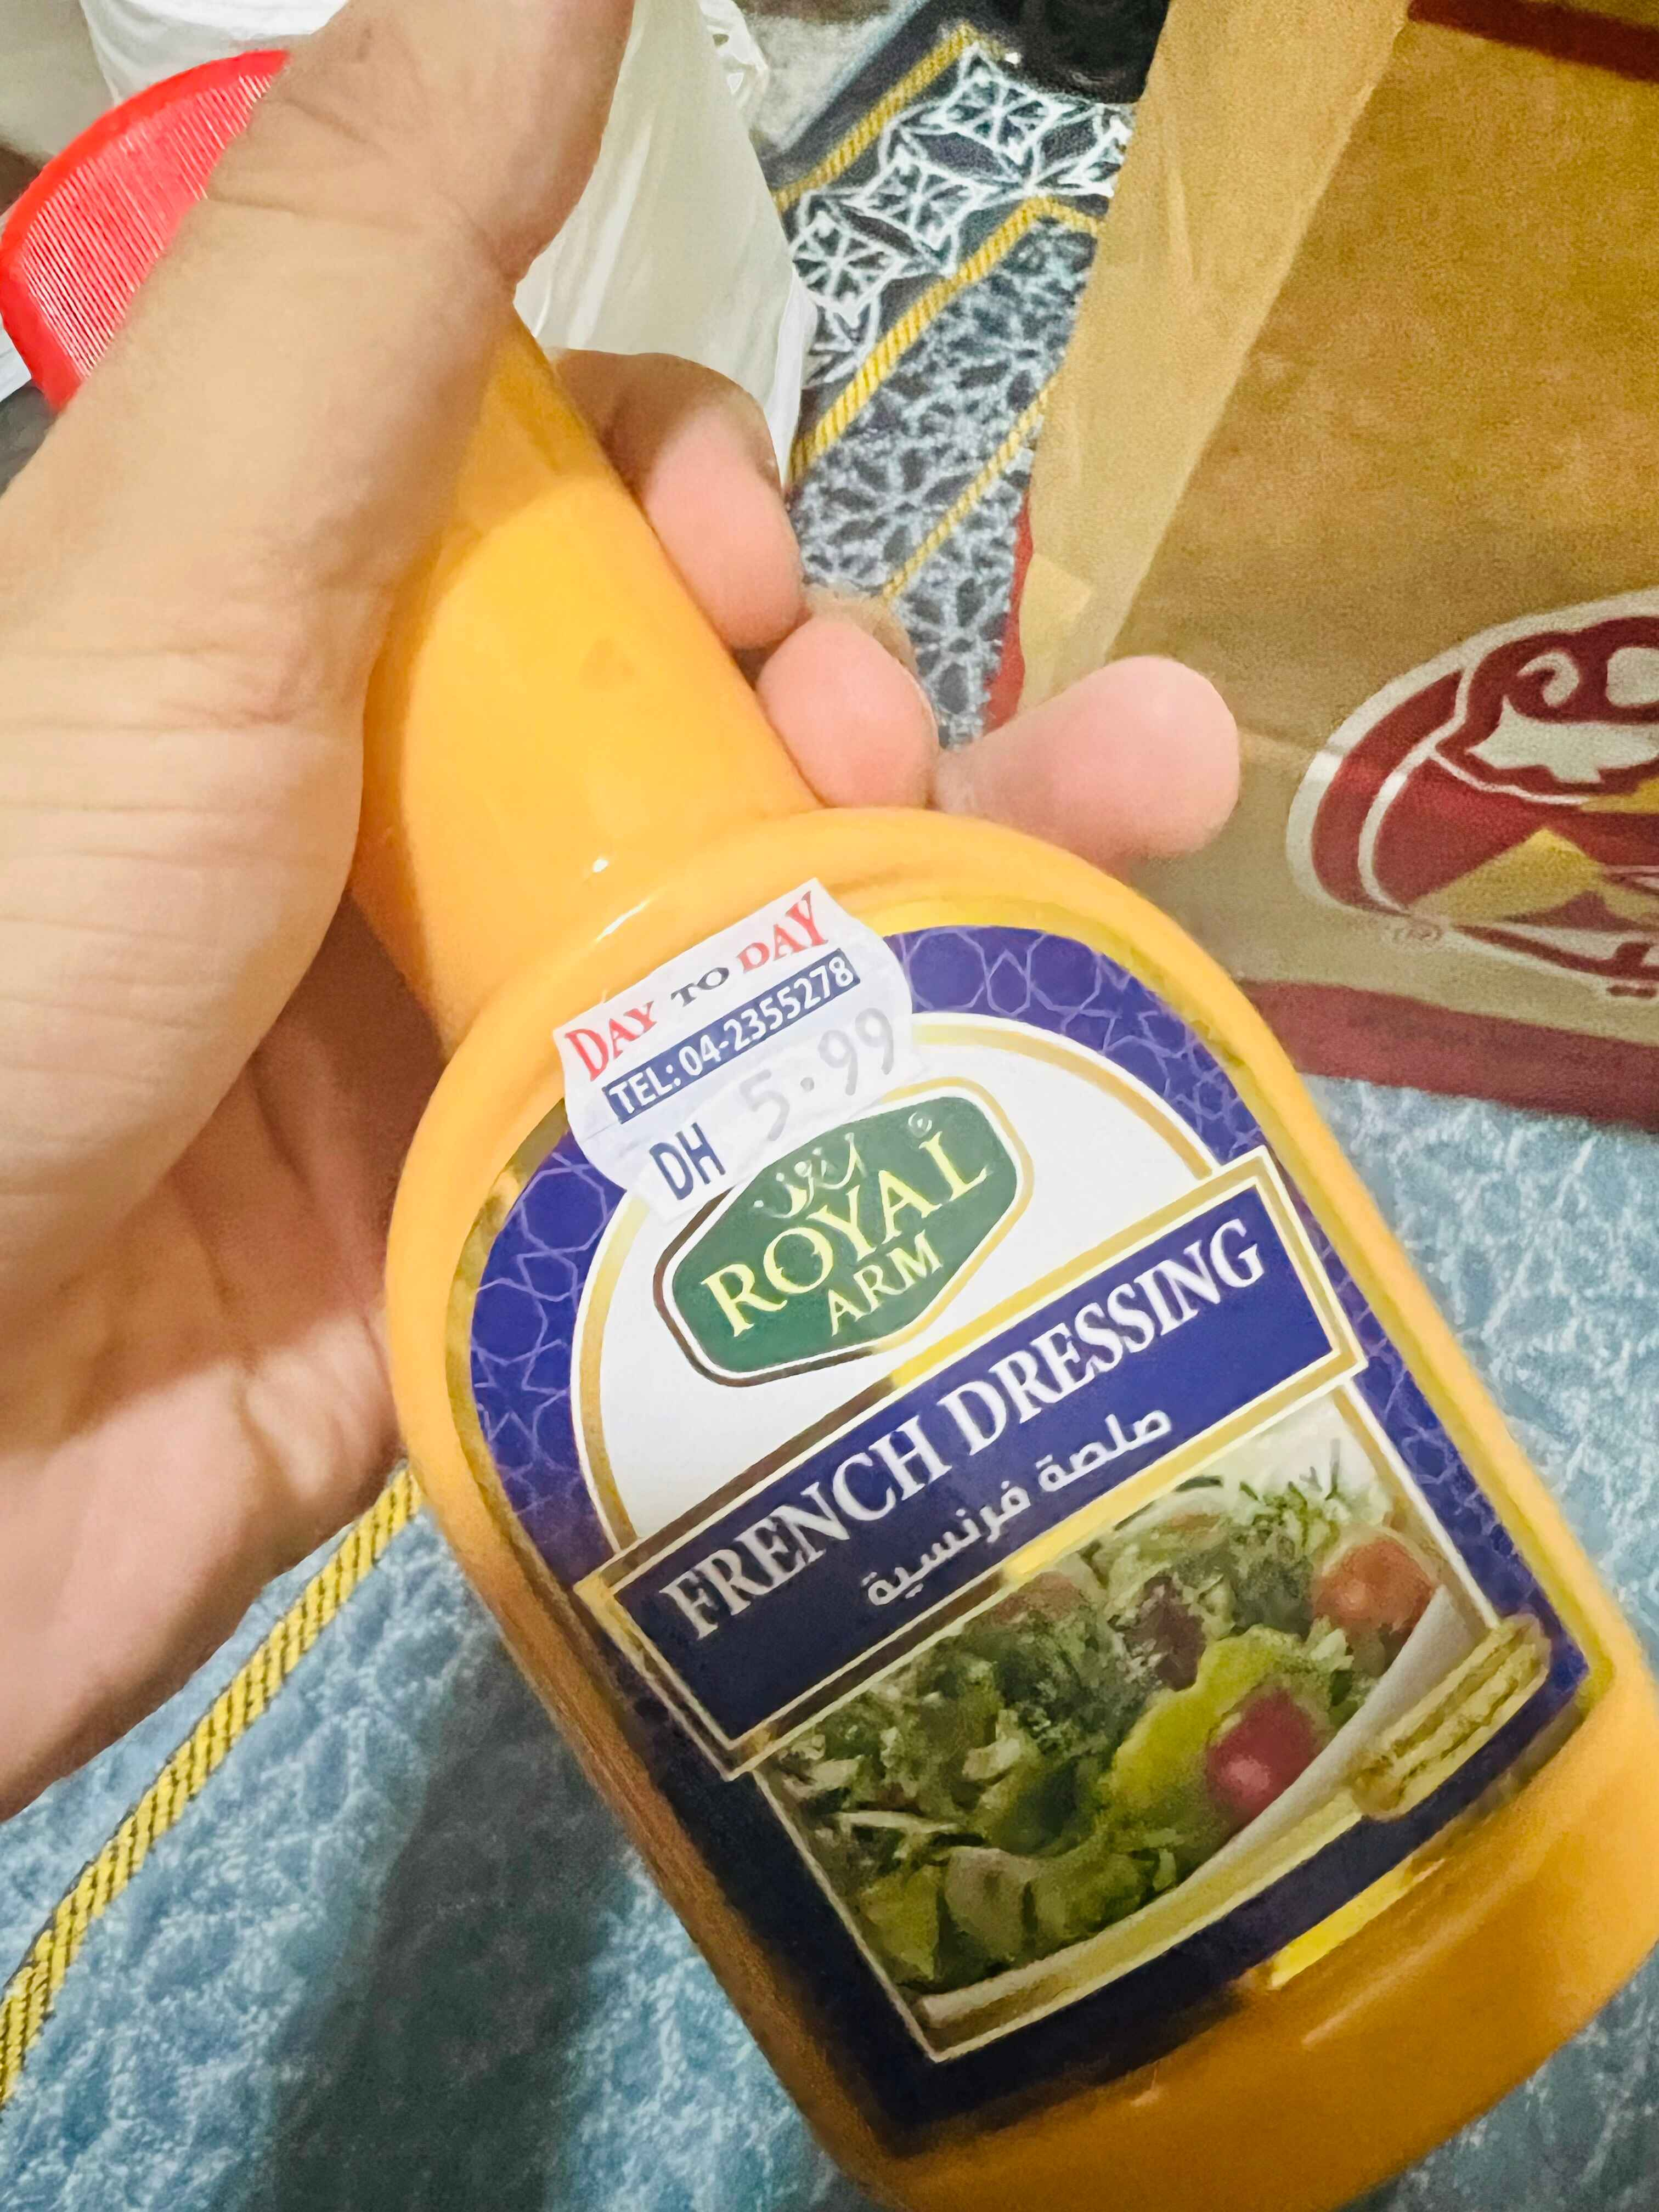PriceTagSmall: (554, 880, 920, 1226)
